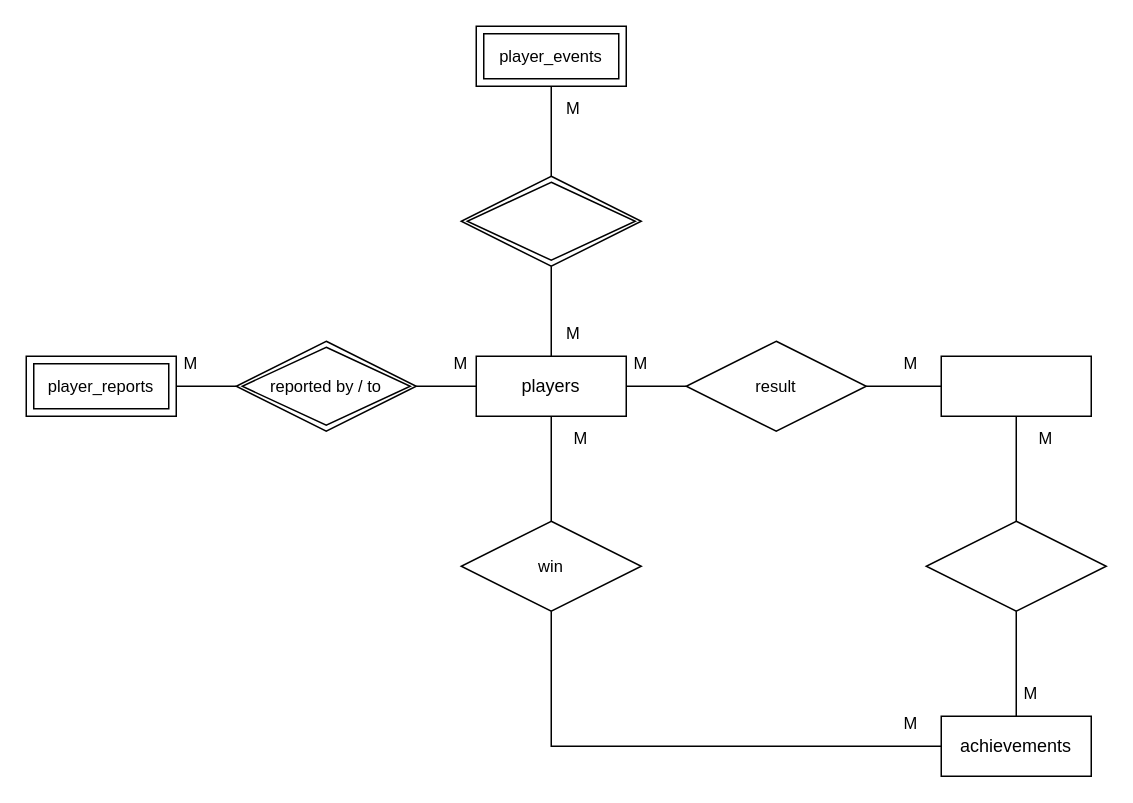
This 1133x803 diagram has some shape labels left out. The shapes that lost their labels are listed below. From the top down, each one's centre as x and y in pixels, then its label:
the point at 550,220: participates
the point at 1015,385: match_results
the point at 1015,565: give
